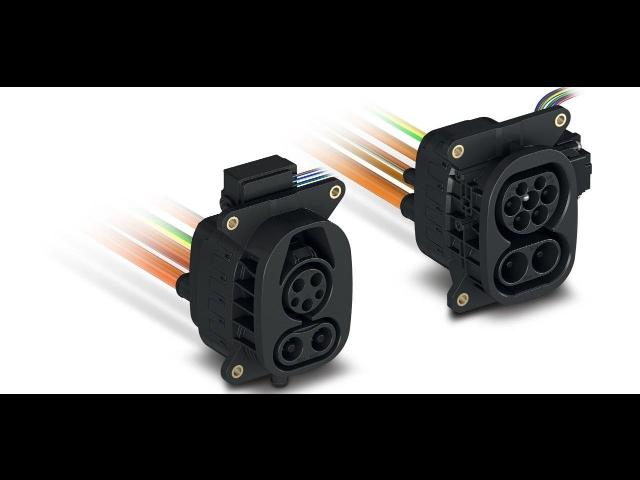inlet: (502, 171, 560, 233)
inlet-above-left: (516, 181, 528, 195)
inlet-above-right: (534, 175, 546, 190)
inlet-below-left: (513, 210, 530, 230)
inlet-below-right: (532, 205, 548, 225)
inlet-circle: (522, 189, 539, 210)
inlet-circle-left: (504, 195, 521, 216)
inlet-circle-right: (540, 184, 557, 204)
inlet-minus: (532, 241, 558, 273)
inlet-plus: (501, 251, 528, 283)
